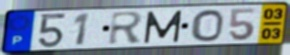1: (70, 12, 91, 48)
5: (36, 13, 68, 49), (228, 7, 257, 42)
M: (143, 9, 185, 45)
O: (191, 8, 226, 43)
R: (107, 10, 146, 46)
